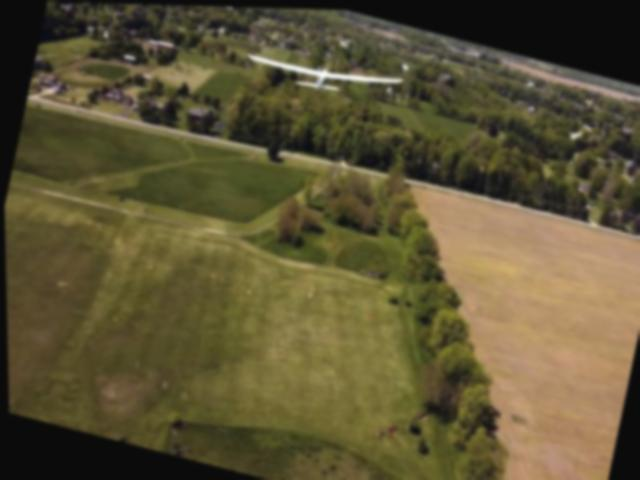uav: (232, 23, 408, 123)
